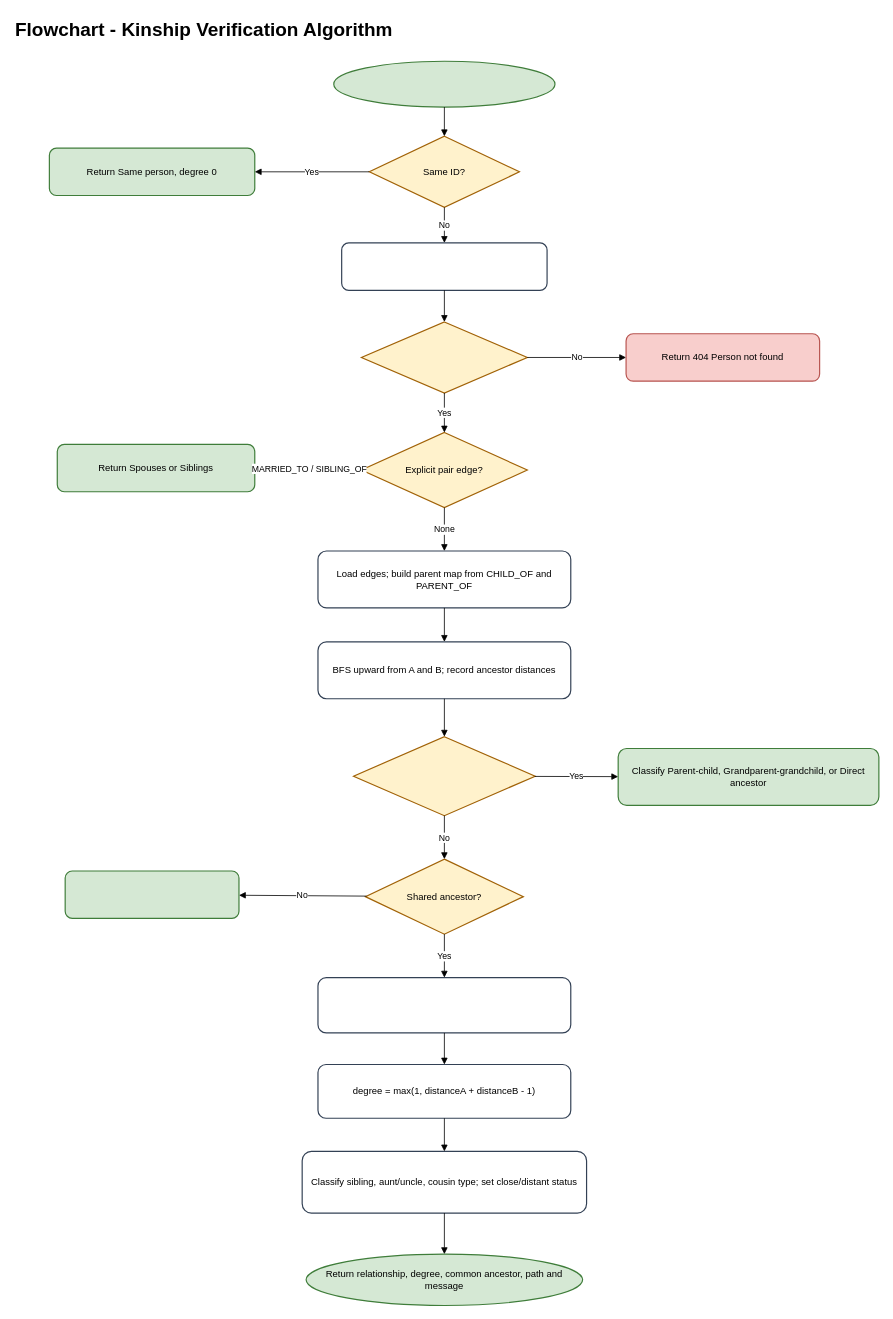
Some shapes in this 893 by 1319 pixel diagram are drawn without their labels. Here are the shapes that lost their labels. From the top down, the centre of each, then its label:
At [444,83]: "Receive Person A and Person B IDs".
At [444,266]: "Load both person records".
At [444,357]: "Both records exist?".
At [444,776]: "Direct ancestor path?".
At [151,894]: "Return Unrelated".
At [444,1005]: "Choose shared ancestor with minimum combined distance".
